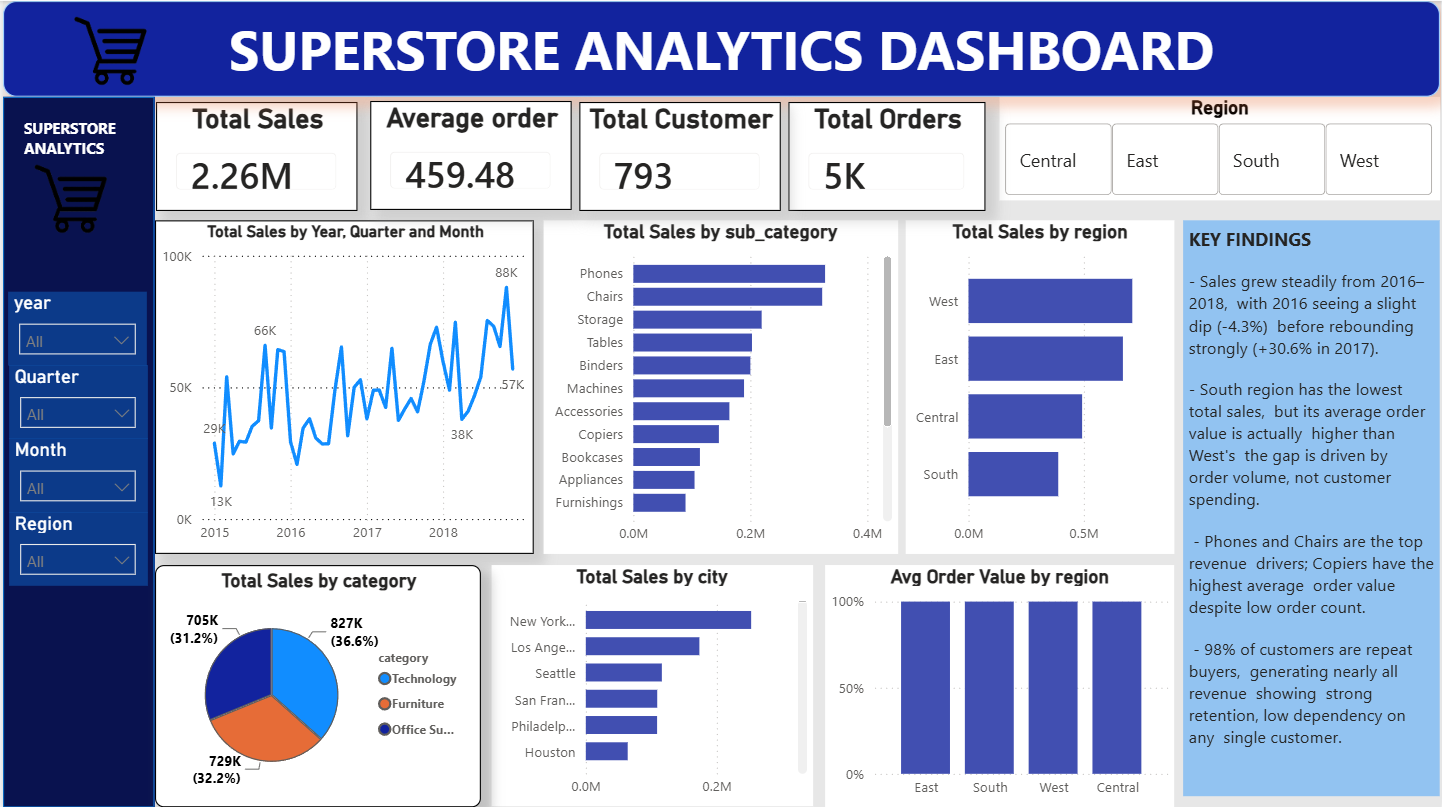

This screenshot's page, from the dashboard's own definition file:
{"tool":"powerbi","page":{"name":"Page 1","canvas":[1280,720],"ordinal":0},"visuals":[{"type":"cardVisual","title":"Total Sales","fields":{"Data":["DateTable.Total Sales"]},"box":[135.9,90.2,179.5,97.3],"z":0},{"type":"lineChart","fields":{"Y":["DateTable.Total Sales"],"Category":["DateTable.Date.Variation.Date Hierarchy.Year","DateTable.Date.Variation.Date Hierarchy.Quarter","DateTable.Date.Variation.Date Hierarchy.Month","DateTable.Date.Variation.Date Hierarchy.Day"]},"box":[135.7,195.7,337.6,297.1],"z":1000},{"type":"clusteredBarChart","fields":{"Y":["DateTable.Total Sales"],"Category":["public superstore_clean.region"]},"box":[804,195.7,239.3,297.1],"z":2000},{"type":"clusteredBarChart","fields":{"Y":["DateTable.Total Sales"],"Category":["public superstore_clean.city"]},"box":[434.8,501.9,285.9,214.9],"z":3000},{"type":"clusteredBarChart","fields":{"Category":["public superstore_clean.sub_category"],"Y":["DateTable.Total Sales"]},"box":[481.6,195.7,315.3,297.1],"z":4000},{"type":"advancedSlicerVisual","title":"Region","fields":{"Values":["public superstore_clean.region"]},"box":[887.3,85.4,392.3,92.6],"z":5000},{"type":"hundredPercentStackedColumnChart","fields":{"Category":["public superstore_clean.region"],"Y":["DateTable.Avg Order Value"]},"box":[731.9,501.9,311.3,216],"z":6000},{"type":"textbox","box":[22,0,125,85],"z":7000},{"type":"textbox","box":[0,0,1279.6,85],"z":8000},{"type":"cardVisual","title":"Average order","fields":{"Data":["DateTable.Avg Order Value"]},"box":[326.8,89.3,179.5,97.3],"z":9000},{"type":"cardVisual","title":"Total Orders","fields":{"Data":["DateTable.Total Orders"]},"box":[699.1,90.3,175.4,97.3],"z":10000},{"type":"shape","box":[0,85.2,134.9,632.7],"z":11000},{"type":"pieChart","fields":{"Y":["DateTable.Total Sales"],"Category":["public superstore_clean.category"]},"box":[135.7,501.9,290,216],"z":12000},{"type":"cardVisual","title":"Total Customer","fields":{"Data":["DateTable.Total Customers"]},"box":[513.5,90.3,179.5,97.3],"z":13000},{"type":"slicer","title":"year","fields":{"Values":["DateTable.Year"]},"box":[4.9,258.6,123.7,65.9],"z":14000},{"type":"slicer","title":"Quarter","fields":{"Values":["DateTable.Quarter"]},"box":[5.2,324,123.1,65.7],"z":15000},{"type":"slicer","title":"Month","fields":{"Values":["DateTable.Month"]},"box":[5.2,389.7,123.1,65.7],"z":16000},{"type":"slicer","title":"Region","fields":{"Values":["public superstore_clean.region"]},"box":[5.2,455.4,123.1,65.7],"z":17000},{"type":"textbox","box":[13.6,99,107.2,47.2],"z":18000},{"type":"image","box":[0,0,190.7,89],"z":19000},{"type":"image","box":[0,131.7,120.8,89],"z":20000},{"type":"textbox","box":[1050.7,195.3,228.9,482.2],"z":21000}]}

Visuals, with their boxes in screenshot pixels (x1, y1, x2, y2), scaled from the page's 1280x720 canvas onto the 1442x807 screenshot:
"Total Sales" cardVisual: bbox=(153, 101, 355, 210)
lineChart - DateTable.Total Sales x DateTable.Date.Variation.Date Hierarchy.Year: bbox=(153, 219, 533, 552)
clusteredBarChart - DateTable.Total Sales x public superstore_clean.region: bbox=(906, 219, 1175, 552)
clusteredBarChart - DateTable.Total Sales x public superstore_clean.city: bbox=(490, 563, 812, 803)
clusteredBarChart - public superstore_clean.sub_category x DateTable.Total Sales: bbox=(543, 219, 898, 552)
"Region" advancedSlicerVisual: bbox=(1000, 96, 1441, 200)
hundredPercentStackedColumnChart - public superstore_clean.region x DateTable.Avg Order Value: bbox=(825, 563, 1175, 805)
textbox: bbox=(25, 0, 166, 95)
textbox: bbox=(0, 0, 1441, 95)
"Average order" cardVisual: bbox=(368, 100, 570, 209)
"Total Orders" cardVisual: bbox=(788, 101, 985, 210)
shape: bbox=(0, 95, 152, 805)
pieChart - DateTable.Total Sales x public superstore_clean.category: bbox=(153, 563, 480, 805)
"Total Customer" cardVisual: bbox=(578, 101, 781, 210)
"year" slicer: bbox=(6, 290, 145, 364)
"Quarter" slicer: bbox=(6, 363, 145, 437)
"Month" slicer: bbox=(6, 437, 145, 510)
"Region" slicer: bbox=(6, 510, 145, 584)
textbox: bbox=(15, 111, 136, 164)
image: bbox=(0, 0, 215, 100)
image: bbox=(0, 148, 136, 247)
textbox: bbox=(1184, 219, 1441, 759)
